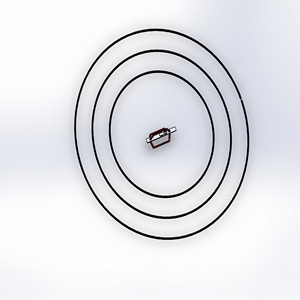circle: (70, 23, 253, 247)
submarine: (139, 121, 182, 159)
